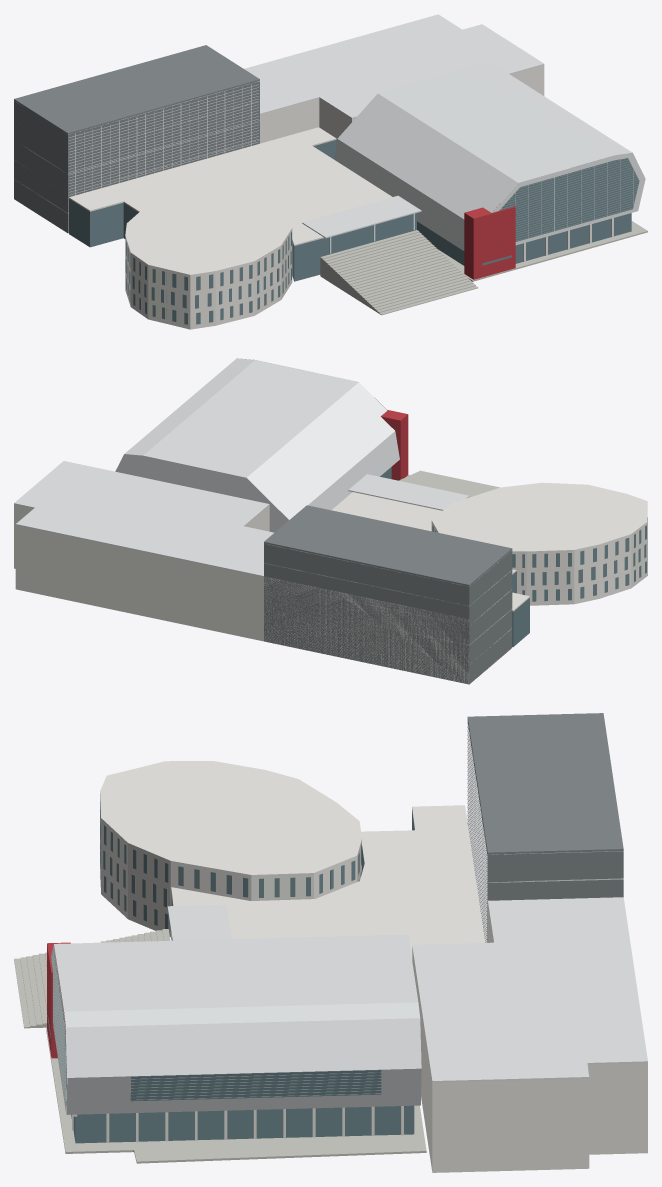
Rendered from SEU_Jiaotingbiao_complex.glb.
3 views of the same model, one above another, from view 1: azimuth 30°, elevation 25°; view 2: azimuth 150°, elevation 25°; view 3: azimuth 270°, elevation 25° (orthographic). The views are drawn at different scales.
Visible parts, largest first — view 1: SEU_B_OSMWAY_300020024_PHOTO__silver_folded_envelope, SEU_B_OSMWAY_300020023_PHOTO__rear_west_unverified_core, SEU_B_OSMWAY_300020023_PHOTO__rear_east_roof, SEU_B_OSMWAY_300020024_PHOTO__foyer_flat_roof, SEU_B_OSMWAY_300020030_PHOTO__round_roof, SEU_B_OSMWAY_300020023_PHOTO__rear_west_roof, SEU_B_OSMWAY_300020024_PHOTO__approach_steps, SEU_B_OSMWAY_300020030_PHOTO__round_pale_core, SEU_B_OSMWAY_300020024_PHOTO__front_glass, SEU_B_OSMWAY_300020024_PHOTO__foyer_glazing, SEU_B_OSMWAY_300020023_PHOTO__rear_screen_horizontals, SEU_B_OSMWAY_300020024_PHOTO__red_entry_volume (+10 smaller); view 2: SEU_B_OSMWAY_300020023_PHOTO__rear_east_light, SEU_B_OSMWAY_300020024_PHOTO__silver_folded_envelope, SEU_B_OSMWAY_300020023_PHOTO__rear_west_unverified_core, SEU_B_OSMWAY_300020023_PHOTO__rear_east_roof, SEU_B_OSMWAY_300020030_PHOTO__round_roof, SEU_B_OSMWAY_300020023_PHOTO__rear_west_roof, SEU_B_OSMWAY_300020030_PHOTO__round_pale_core, SEU_B_OSMWAY_300020024_PHOTO__rear_unobserved_simple, SEU_B_OSMWAY_300020024_PHOTO__foyer_flat_roof, SEU_B_OSMWAY_300020024_PHOTO__entry_canopy, SEU_B_OSMWAY_300020030_PHOTO__round_short_blue_windows, SEU_B_OSMWAY_300020024_PHOTO__approach_steps (+3 smaller); view 3: SEU_B_OSMWAY_300020024_PHOTO__silver_folded_envelope, SEU_B_OSMWAY_300020023_PHOTO__rear_east_roof, SEU_B_OSMWAY_300020030_PHOTO__round_roof, SEU_B_OSMWAY_300020023_PHOTO__rear_east_light, SEU_B_OSMWAY_300020024_PHOTO__foyer_flat_roof, SEU_B_OSMWAY_300020023_PHOTO__rear_west_roof, SEU_B_OSMWAY_300020024_PHOTO__ground_glazing, SEU_B_OSMWAY_300020030_PHOTO__round_pale_core, SEU_B_OSMWAY_300020024_PHOTO__ground_base, SEU_B_OSMWAY_300020023_PHOTO__rear_west_unverified_core, SEU_B_OSMWAY_300020024_PHOTO__east_ribbon_glazing, SEU_B_OSMWAY_300020030_PHOTO__round_short_blue_windows (+7 smaller).
Part boxes in pixels (<box>): SEU_B_OSMWAY_300020024_PHOTO__silver_folded_envelope: <box>334,63,632,250</box>; SEU_B_OSMWAY_300020023_PHOTO__rear_west_unverified_core: <box>14,80,259,233</box>; SEU_B_OSMWAY_300020023_PHOTO__rear_east_roof: <box>244,14,544,118</box>; SEU_B_OSMWAY_300020024_PHOTO__foyer_flat_roof: <box>69,127,392,245</box>; SEU_B_OSMWAY_300020030_PHOTO__round_roof: <box>125,180,292,275</box>; SEU_B_OSMWAY_300020023_PHOTO__rear_west_roof: <box>14,45,259,134</box>; SEU_B_OSMWAY_300020024_PHOTO__approach_steps: <box>320,230,478,315</box>; SEU_B_OSMWAY_300020030_PHOTO__round_pale_core: <box>125,229,292,329</box>; SEU_B_OSMWAY_300020024_PHOTO__front_glass: <box>499,158,639,241</box>; SEU_B_OSMWAY_300020024_PHOTO__foyer_glazing: <box>69,139,416,281</box>; SEU_B_OSMWAY_300020023_PHOTO__rear_screen_horizontals: <box>68,84,258,218</box>; SEU_B_OSMWAY_300020024_PHOTO__red_entry_volume: <box>464,204,515,279</box>; SEU_B_OSMWAY_300020023_PHOTO__rear_east_light: <box>14,504,469,684</box>; SEU_B_OSMWAY_300020024_PHOTO__silver_folded_envelope: <box>124,358,399,519</box>; SEU_B_OSMWAY_300020023_PHOTO__rear_west_unverified_core: <box>264,543,512,684</box>; SEU_B_OSMWAY_300020023_PHOTO__rear_east_roof: <box>14,461,468,620</box>; SEU_B_OSMWAY_300020030_PHOTO__round_roof: <box>431,482,647,552</box>; SEU_B_OSMWAY_300020023_PHOTO__rear_west_roof: <box>264,505,512,585</box>; SEU_B_OSMWAY_300020030_PHOTO__round_pale_core: <box>431,522,647,605</box>; SEU_B_OSMWAY_300020024_PHOTO__rear_unobserved_simple: <box>115,454,288,532</box>; SEU_B_OSMWAY_300020024_PHOTO__foyer_flat_roof: <box>331,492,529,611</box>; SEU_B_OSMWAY_300020024_PHOTO__entry_canopy: <box>348,474,469,510</box>; SEU_B_OSMWAY_300020030_PHOTO__round_short_blue_windows: <box>432,517,647,601</box>; SEU_B_OSMWAY_300020024_PHOTO__approach_steps: <box>399,470,499,497</box>; SEU_B_OSMWAY_300020024_PHOTO__silver_folded_envelope: <box>54,934,421,1114</box>; SEU_B_OSMWAY_300020023_PHOTO__rear_east_roof: <box>412,897,647,1082</box>; SEU_B_OSMWAY_300020030_PHOTO__round_roof: <box>100,761,361,876</box>; SEU_B_OSMWAY_300020023_PHOTO__rear_east_light: <box>412,904,647,1172</box>; SEU_B_OSMWAY_300020024_PHOTO__foyer_flat_roof: <box>171,805,485,959</box>; SEU_B_OSMWAY_300020023_PHOTO__rear_west_roof: <box>467,713,623,854</box>; SEU_B_OSMWAY_300020024_PHOTO__ground_glazing: <box>71,1105,414,1143</box>; SEU_B_OSMWAY_300020030_PHOTO__round_pale_core: <box>100,795,361,937</box>; SEU_B_OSMWAY_300020024_PHOTO__ground_base: <box>46,1027,426,1163</box>; SEU_B_OSMWAY_300020023_PHOTO__rear_west_unverified_core: <box>467,718,623,942</box>; SEU_B_OSMWAY_300020024_PHOTO__east_ribbon_glazing: <box>130,1070,381,1101</box>; SEU_B_OSMWAY_300020030_PHOTO__round_short_blue_windows: <box>100,798,361,928</box>.
Size of the model in its own units: 108 by 20.93 by 85.9.
